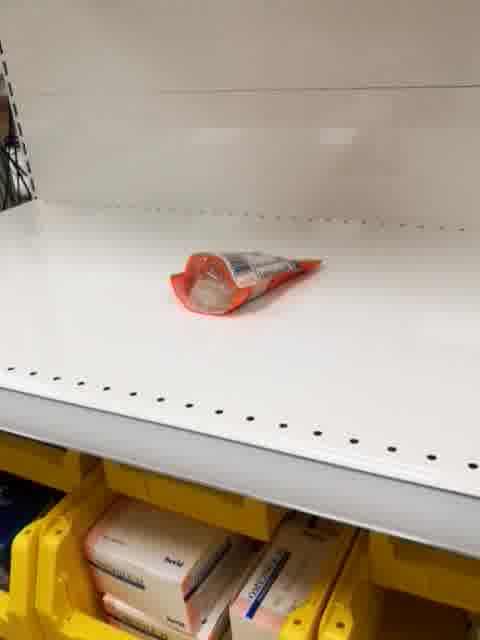whitechia: (168, 248, 325, 318)
